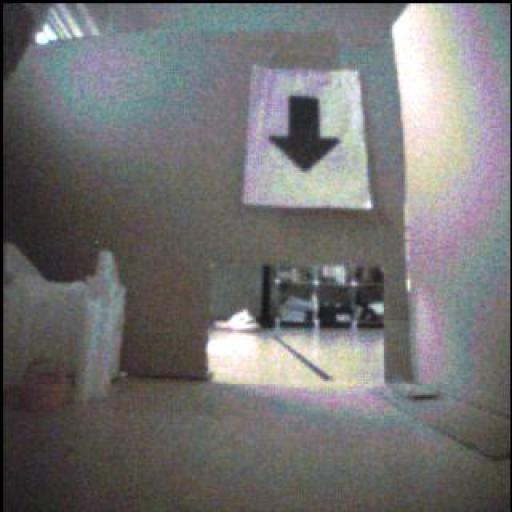arrow: (270, 97, 340, 172)
